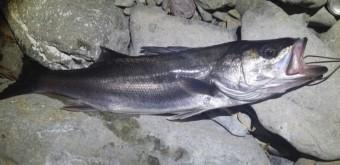fish: (0, 37, 327, 119)
